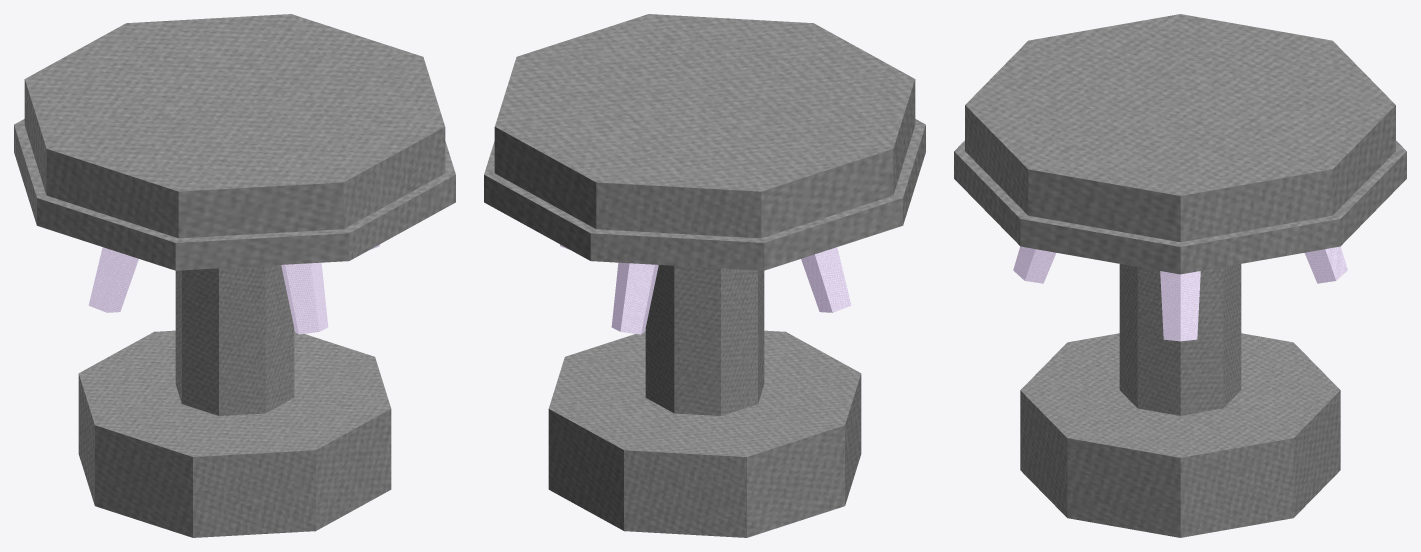
File: decor-crystal-end-table.glb
3 views of the same model, side by side, from view 1: azimuth 30°, elevation 25°; view 2: azimuth 150°, elevation 25°; view 3: azimuth 270°, elevation 25° (orthographic).
Visible parts, largest first — view 1: top, base, pedestal, top-band, under-crystal-1, under-crystal-2; view 2: top, base, pedestal, top-band, under-crystal-3, under-crystal-2; view 3: top, base, top-band, pedestal, under-crystal-0, under-crystal-1, under-crystal-3.
Part boxes in pixels (box(x1,y1,x2,y2)): top: box(24, 14, 445, 238); base: box(78, 330, 391, 537); pedestal: box(175, 265, 294, 415); top-band: box(14, 119, 455, 270); under-crystal-1: box(281, 262, 328, 334); under-crystal-2: box(88, 247, 138, 312); top: box(494, 14, 915, 238); base: box(548, 330, 861, 537); pedestal: box(645, 265, 764, 415); top-band: box(484, 119, 925, 270); under-crystal-3: box(611, 262, 658, 334); under-crystal-2: box(801, 247, 851, 312); top: box(965, 14, 1395, 242); base: box(1020, 333, 1340, 537); top-band: box(954, 140, 1406, 274); pedestal: box(1119, 264, 1241, 415); under-crystal-0: box(1160, 271, 1200, 341); under-crystal-1: box(1013, 246, 1056, 283); under-crystal-3: box(1304, 246, 1347, 283).
Bounding box in the file's own units: 0.82 × 0.73 × 0.82.
Materials: 5 (5 with a texture image).
